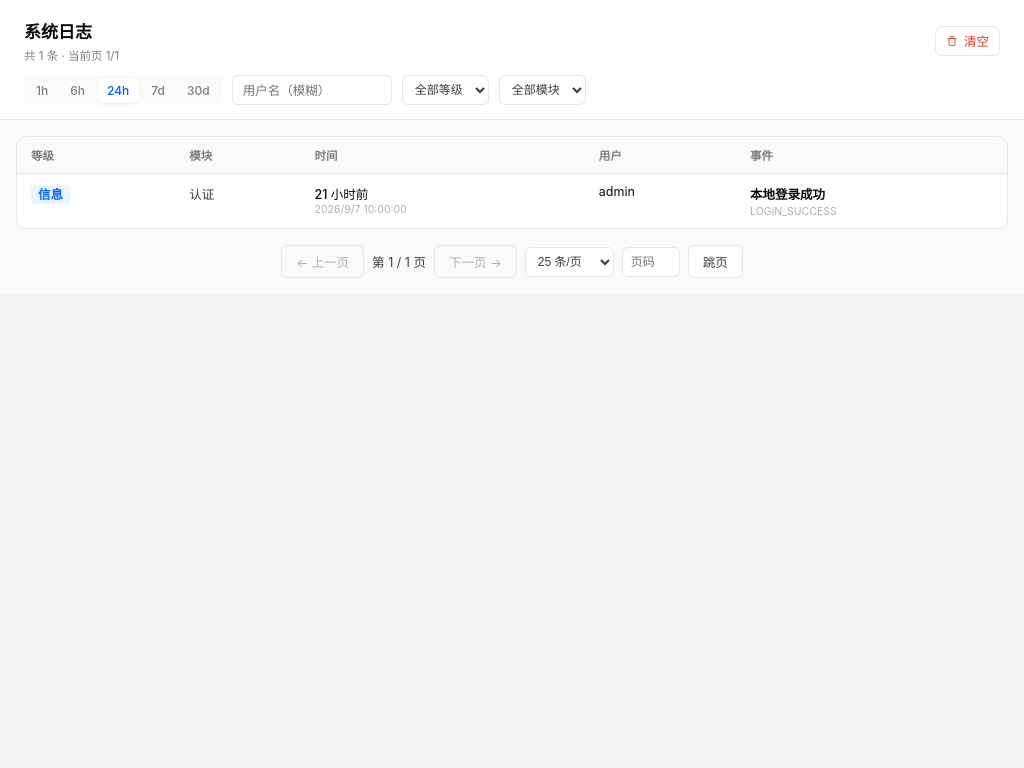
it: AuditLog redacted client fields › renders the masked IP and parsed device label without showing raw User-Agent
The image size is (1024, 768).
Click the text "本地登录成功".
click(788, 194)  # box x1=750 y1=187 x2=825 y2=202
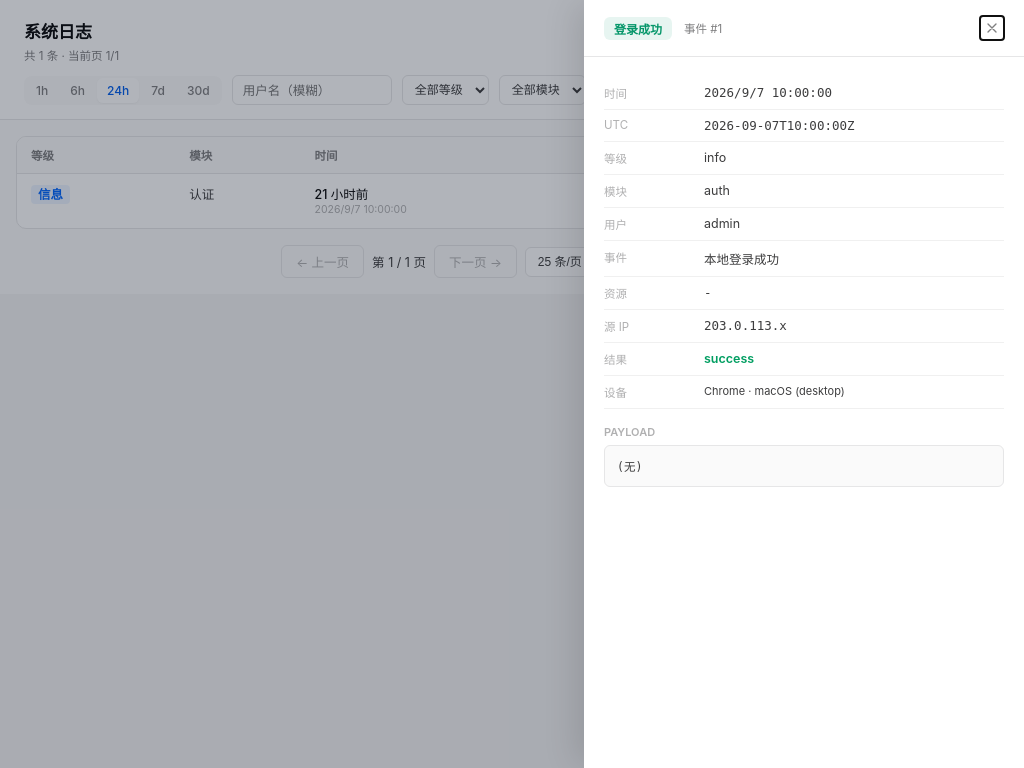
Now the text "203.0.113.x" is shown, box x1=704 y1=318 x2=787 y2=333
Now the text "Chrome · macOS (desktop)" is shown, box x1=704 y1=384 x2=845 y2=398
